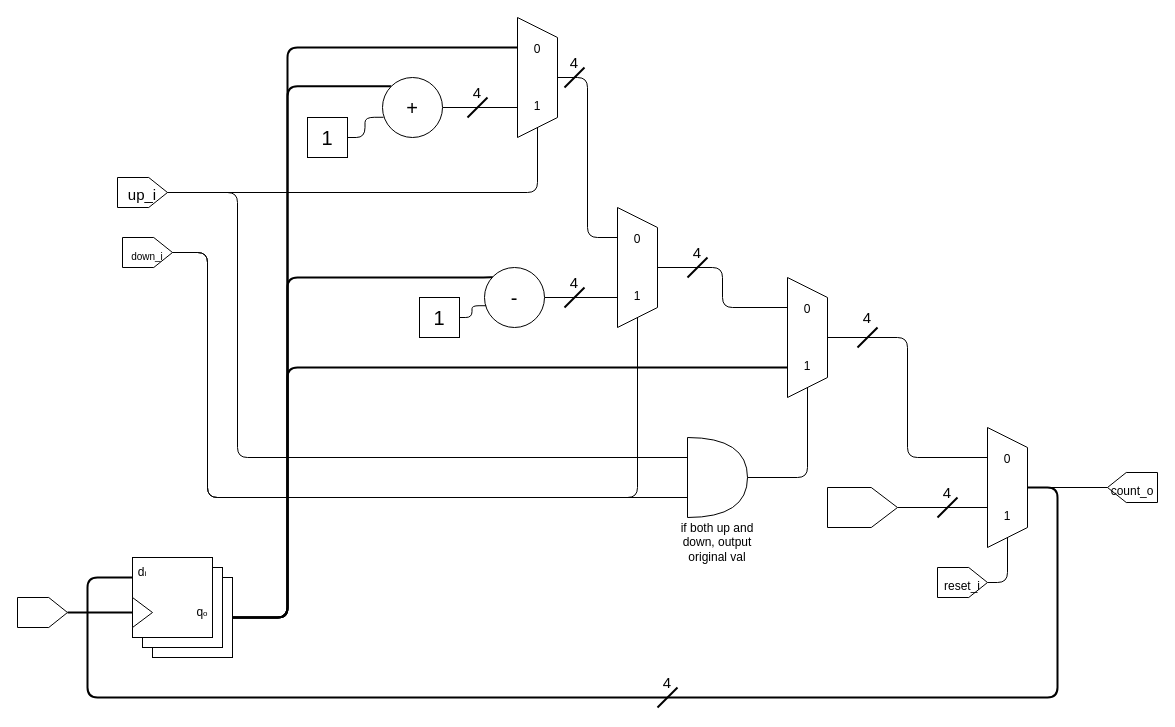
Some shapes in this 1175 by 727 pixel diagram are drawn without their labels. Here are the shapes that lost their labels. From the top down, the centre of each, then its label:
At pixel 862 507: "reset_val_p".
At pixel 42 612: "clk_i".
